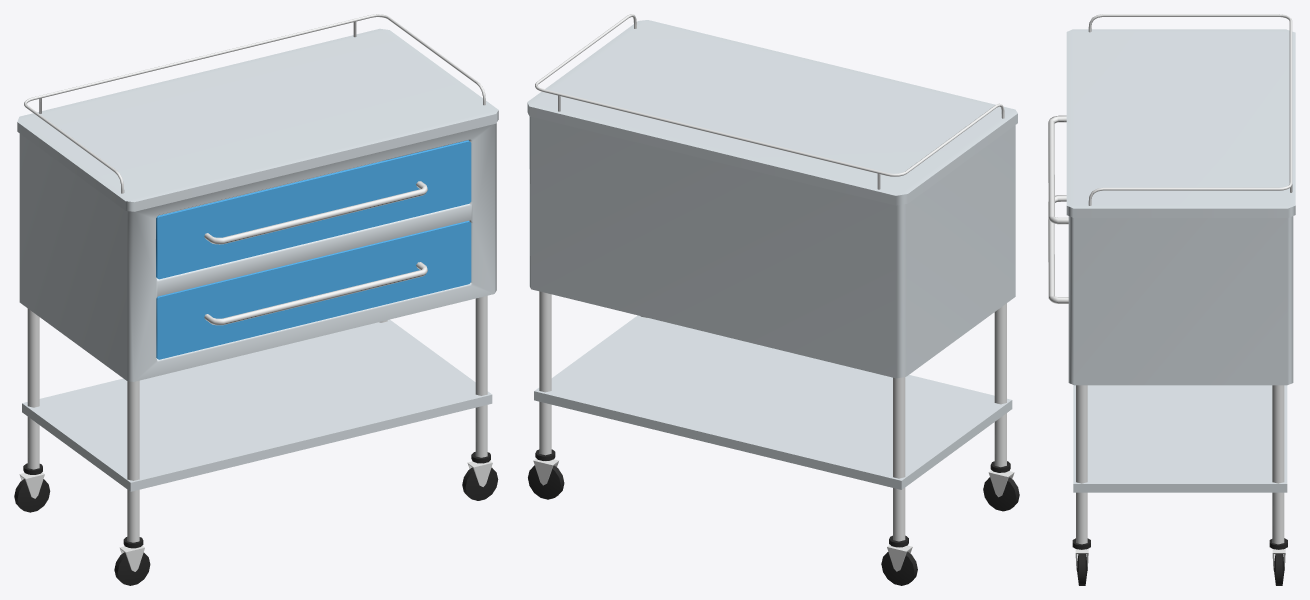
Rendered from Trolly Droor.fbx.
3 renders of one model, left to right at view 1: azimuth 30°, elevation 25°; view 2: azimuth 150°, elevation 25°; view 3: azimuth 270°, elevation 25°, orthographic. The views are drawn at different scales.
Visible parts, largest first — view 1: Trolly_Table1; view 2: Trolly_Table1; view 3: Trolly_Table1.
Part boxes in pixels (x1=…): Trolly_Table1: x1=14, y1=14, x2=498, y2=585; Trolly_Table1: x1=527, y1=14, x2=1019, y2=585; Trolly_Table1: x1=1048, y1=14, x2=1295, y2=585.
Size of the model in its own units: 82.27 by 84.13 by 47.09.
